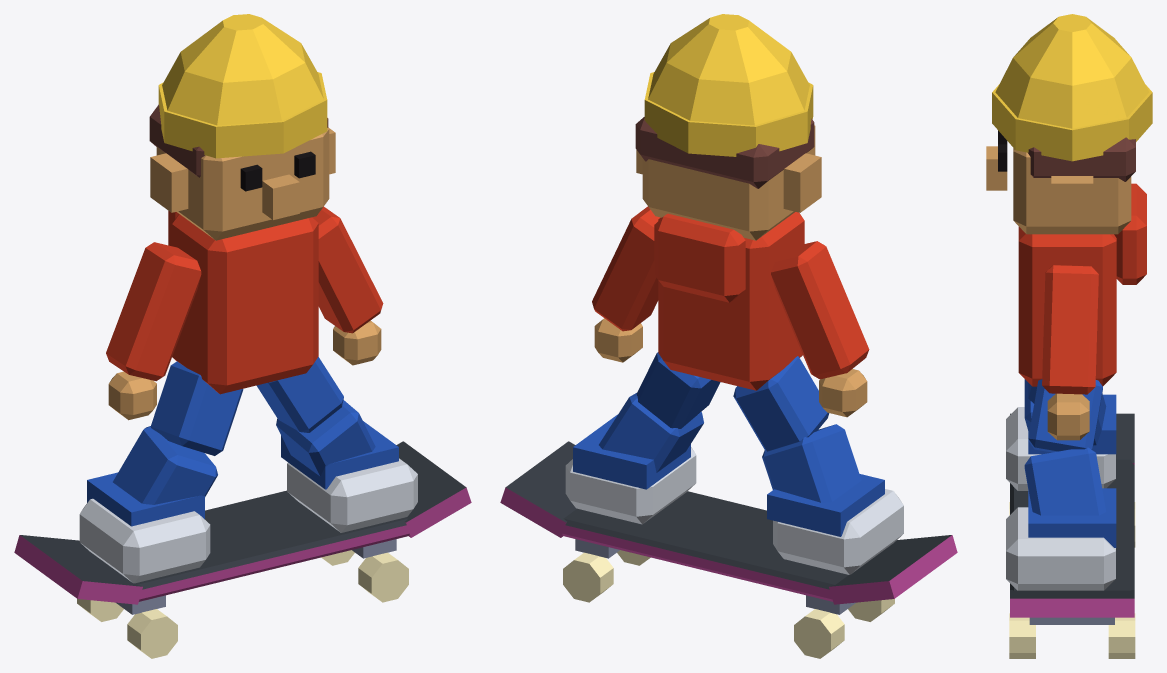
File: skater_fit.glb
The picture shows the model from 3 angles, left to right: view 1: azimuth 30°, elevation 25°; view 2: azimuth 150°, elevation 25°; view 3: azimuth 270°, elevation 25°; orthographic projection.
Parts seen in each view (by area): view 1: Torso, Deck, Head, ArmB, ShoeB, Dome, ShoeF, Crown, Rim, ThighB, ArmF, ShinB (+14 smaller); view 2: Torso, Deck, ArmB, Head, Dome, Hood, Crown, ShoeB, Rim, ShinB, ArmF, ThighB (+14 smaller); view 3: Torso, ArmF, Dome, ShoeF, Crown, Head, Rim, ShinF, NoseKick, Deck, Hair, CuffF (+13 smaller).
Part boxes in pixels (x1,y1,x2,y2): Torso: [172, 214, 318, 394]; Deck: [78, 490, 410, 601]; Head: [156, 128, 329, 240]; ArmB: [106, 242, 201, 381]; ShoeB: [79, 498, 210, 583]; Dome: [162, 44, 323, 125]; ShoeF: [287, 458, 417, 532]; Crown: [180, 14, 305, 82]; Rim: [158, 72, 327, 158]; ThighB: [150, 361, 243, 455]; ArmF: [312, 206, 383, 333]; ShinB: [113, 426, 217, 504]; Torso: [658, 212, 804, 390]; Deck: [561, 491, 848, 601]; ArmB: [771, 241, 869, 379]; Head: [642, 125, 815, 240]; Dome: [648, 44, 809, 125]; Hood: [654, 213, 745, 302]; Crown: [666, 14, 791, 82]; ShoeB: [773, 489, 903, 574]; Rim: [644, 72, 813, 156]; ShinB: [762, 424, 861, 502]; ArmF: [592, 206, 660, 331]; ThighB: [733, 356, 829, 451]; Torso: [1018, 226, 1116, 386]; ArmF: [1042, 265, 1098, 394]; Dome: [995, 58, 1149, 128]; ShoeF: [1006, 507, 1115, 590]; Crown: [1013, 14, 1131, 85]; Head: [1013, 148, 1131, 234]; Rim: [992, 84, 1152, 161]; ShinF: [1024, 447, 1105, 515]; NoseKick: [1010, 590, 1134, 617]; Deck: [1010, 459, 1134, 590]; Hair: [1028, 137, 1135, 181]; CuffF: [1028, 488, 1116, 547].
Bounding box in the file's own units: 1.18 × 1.67 × 0.435.
